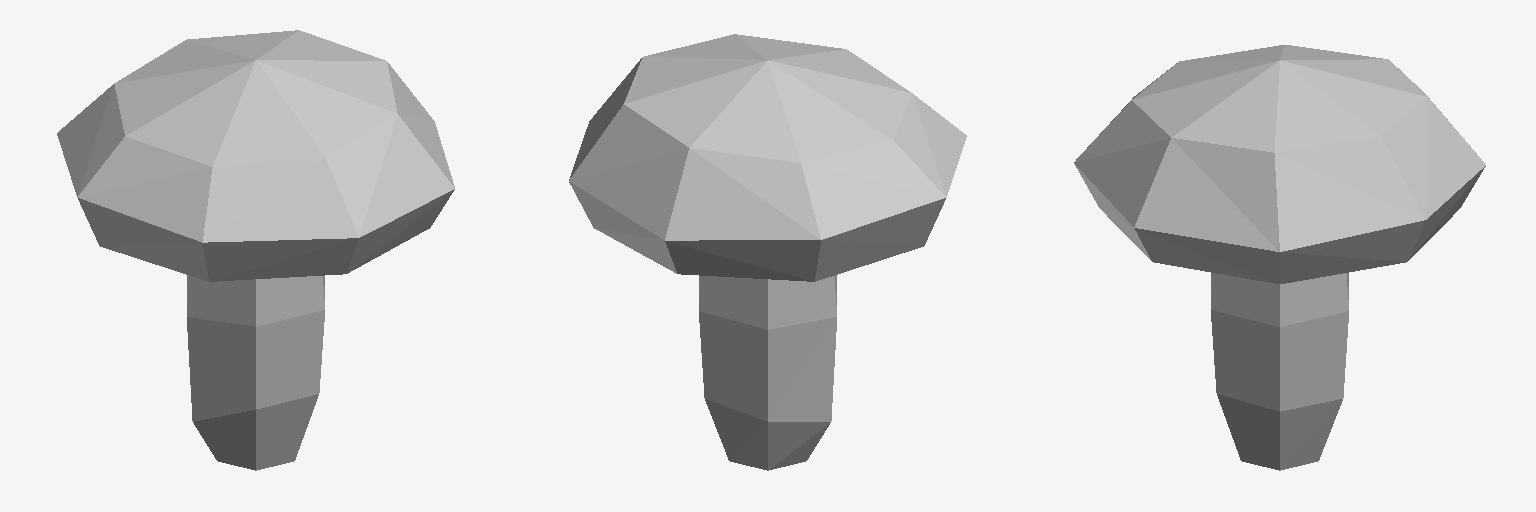
The model's file is redmushroom.obj.
The picture shows the model from 3 angles: view 1: azimuth 30°, elevation 25°; view 2: azimuth 150°, elevation 25°; view 3: azimuth 270°, elevation 25°; orthographic projection.
Size of the model in its own units: 0.5892 by 0.6168 by 0.5892.